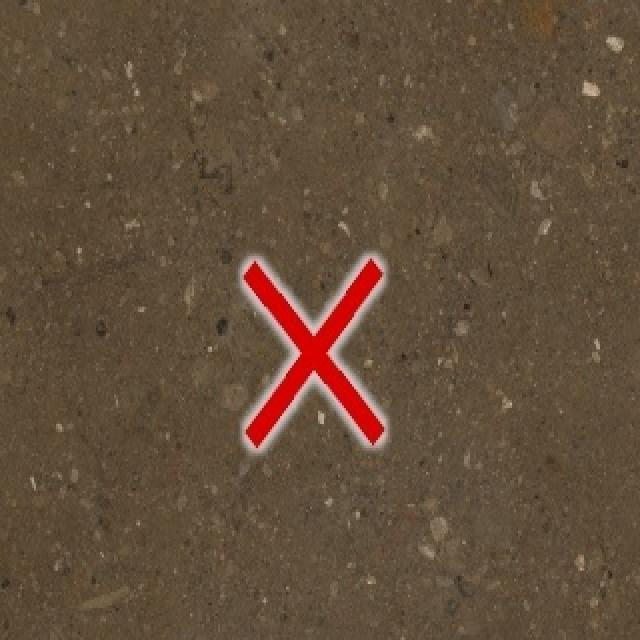x_marker: (243, 257, 383, 447)
